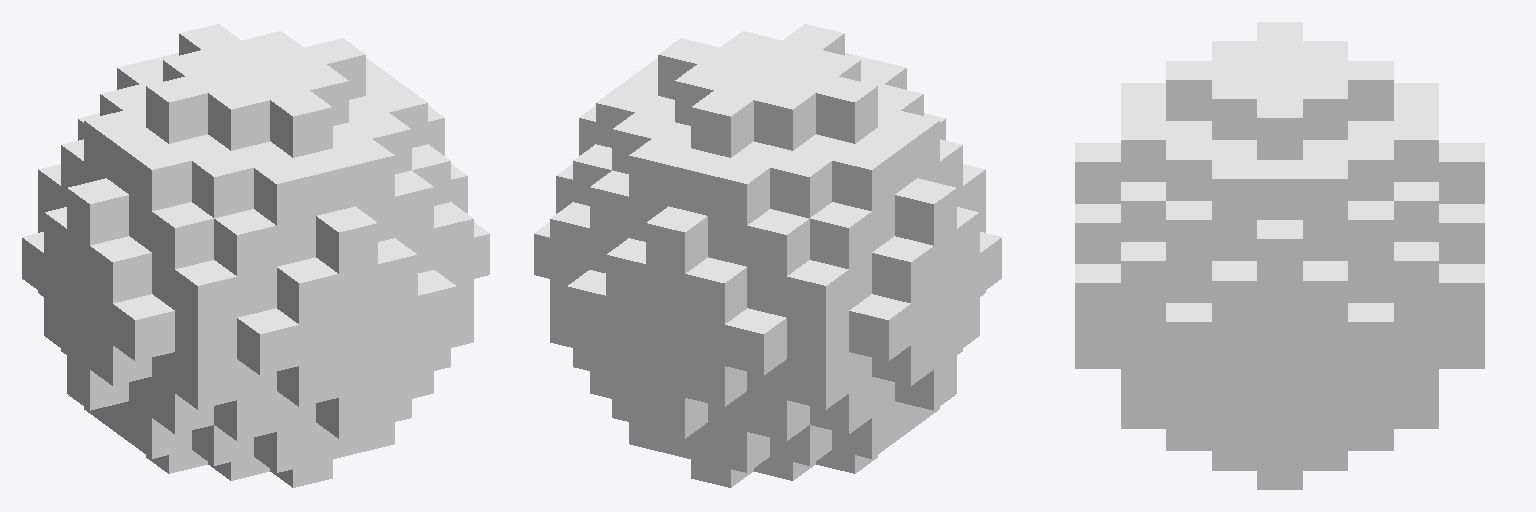
Rendered from Boxel.obj.
The picture shows the model from 3 angles: view 1: azimuth 30°, elevation 25°; view 2: azimuth 150°, elevation 25°; view 3: azimuth 270°, elevation 25°; orthographic projection.
Parts seen in each view (by area): view 1: object 1; view 2: object 1; view 3: object 1.
Boxes of the visible parts, x1=… form: object 1: x1=22, y1=24, x2=489, y2=487; object 1: x1=534, y1=24, x2=1001, y2=487; object 1: x1=1075, y1=22, x2=1484, y2=489.
Size of the model in its own units: 0.9 by 0.9 by 0.9.